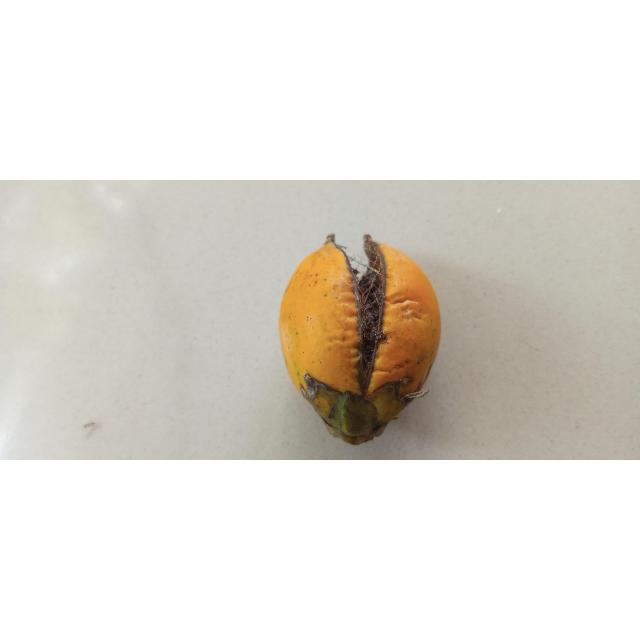damaged: (277, 235, 442, 447)
